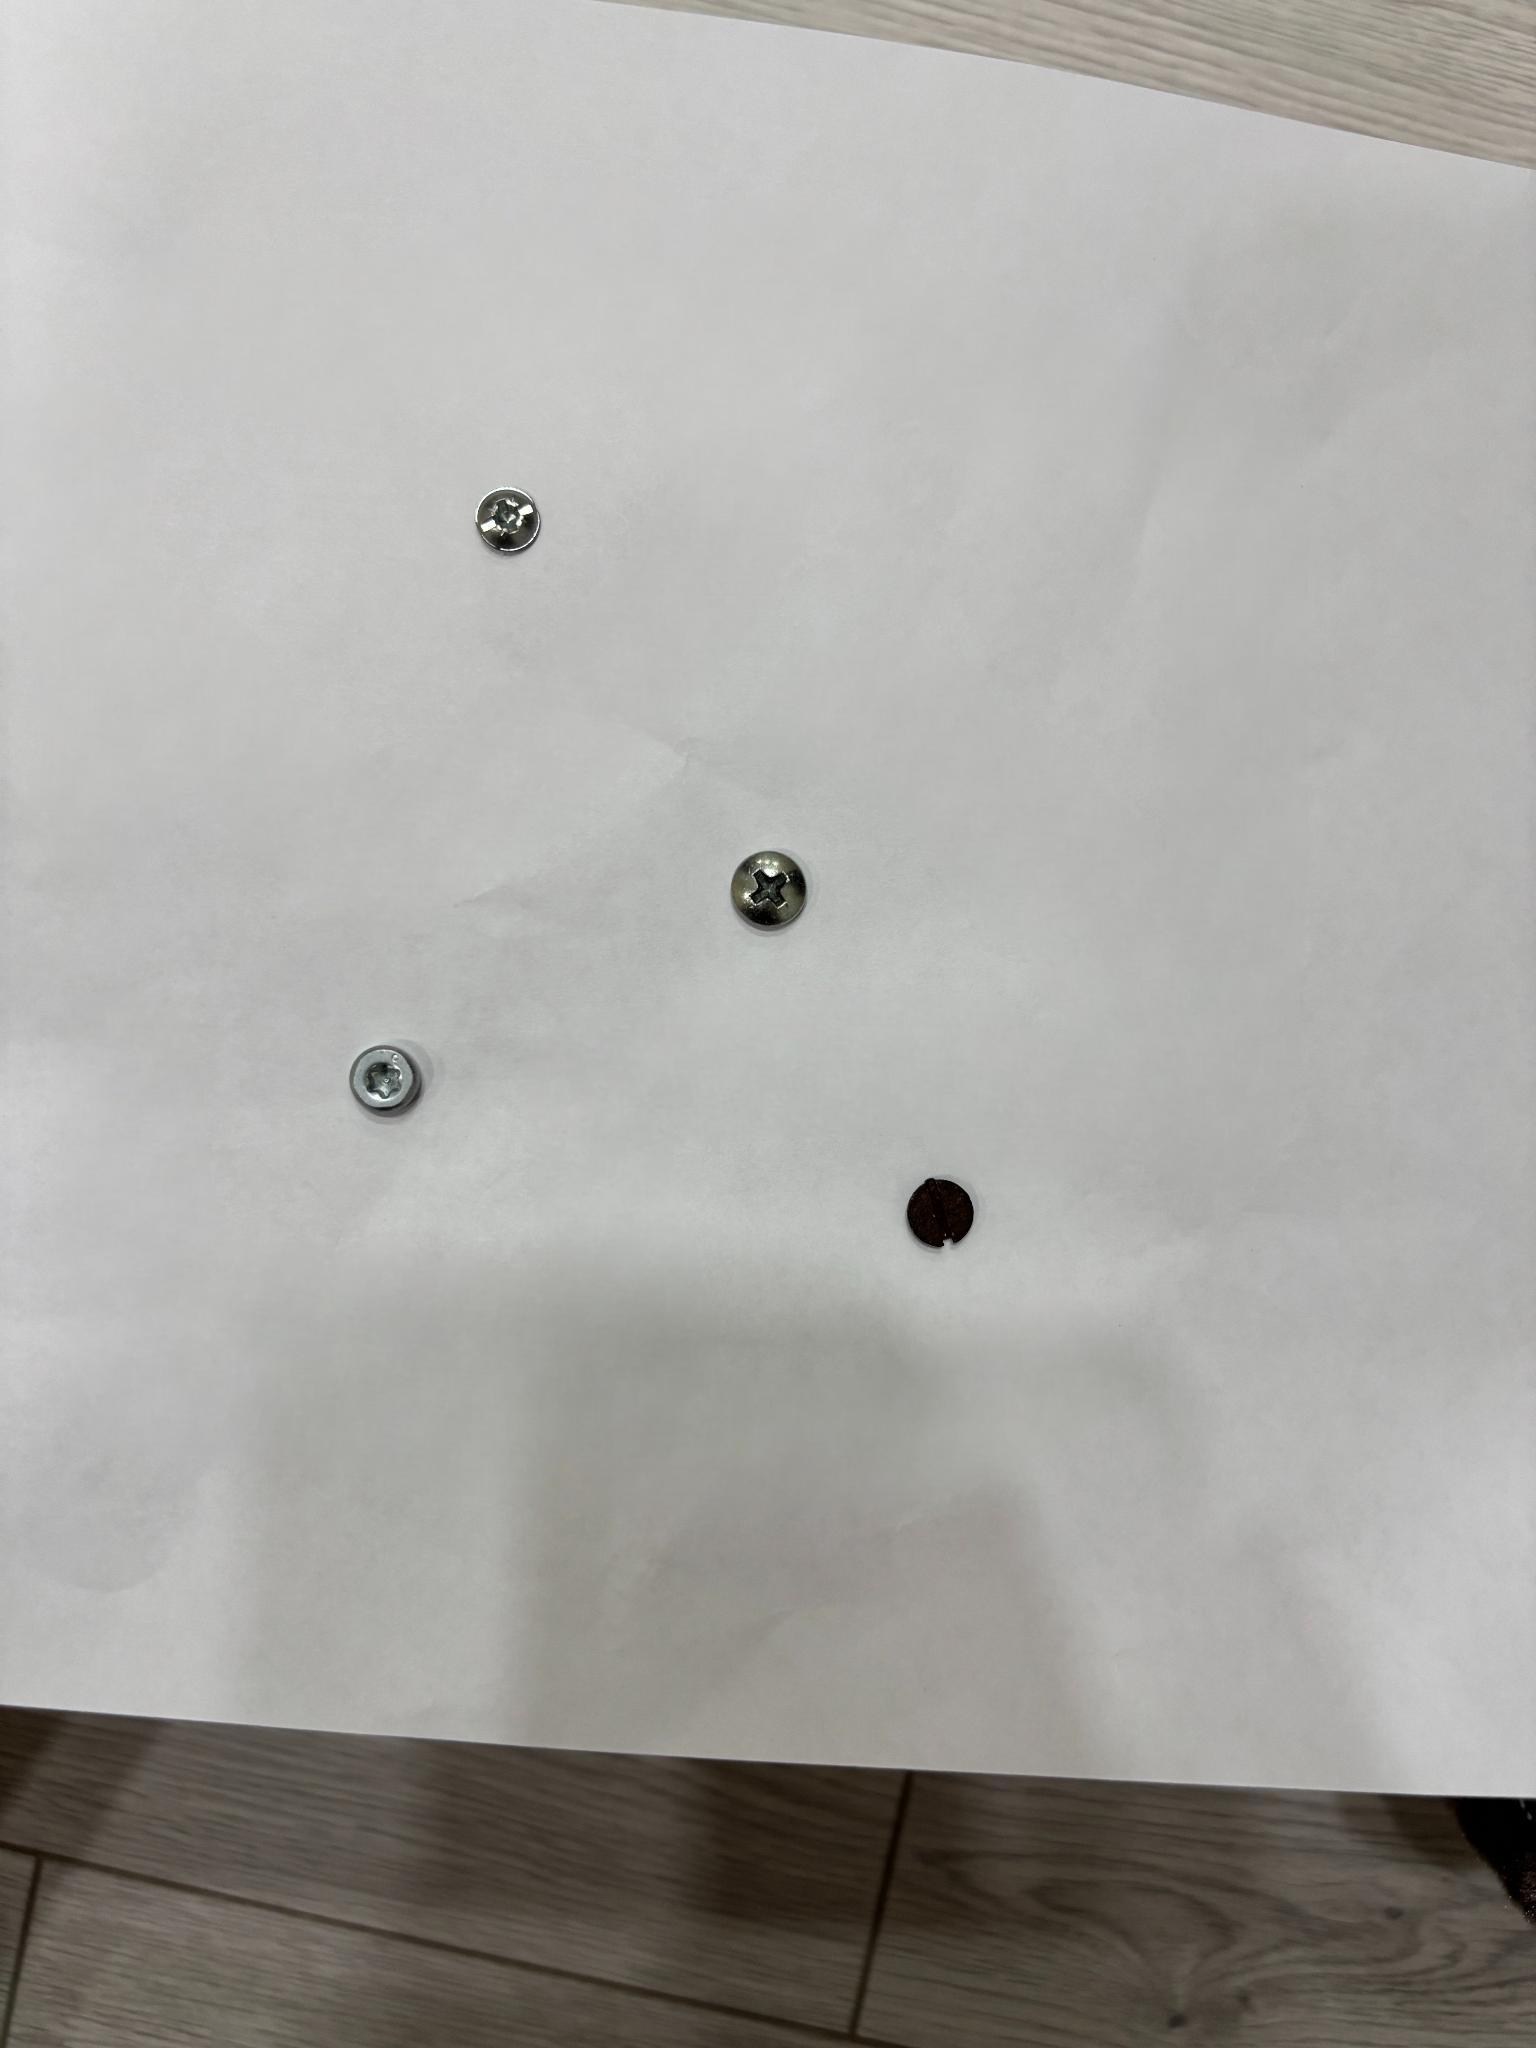PH: (731, 851, 807, 927)
PZ: (476, 489, 541, 553)
SL: (907, 1177, 975, 1248)
T: (349, 1045, 419, 1114)
